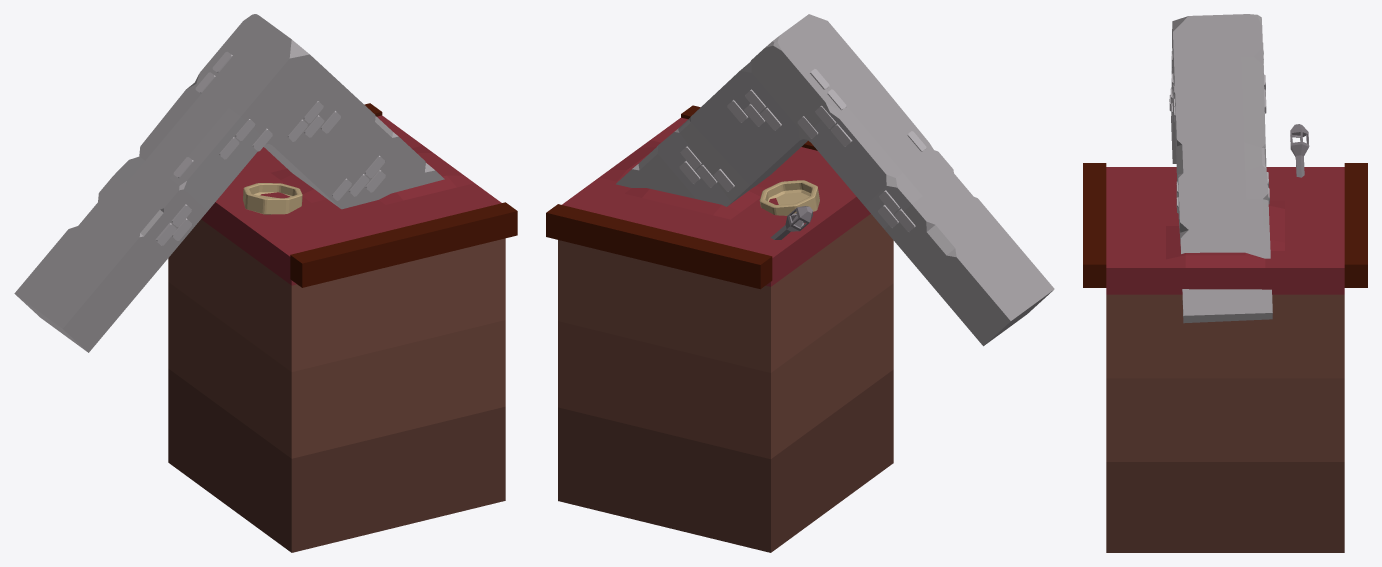
The model's file is Plano5.fbx.
3 renders of one model, left to right at view 1: azimuth 30°, elevation 25°; view 2: azimuth 150°, elevation 25°; view 3: azimuth 270°, elevation 25°, orthographic. The views are drawn at different scales.
Parts seen in each view (by area): view 1: chao, Cube.052, Plane.037, Borda, Tijolo, Cylinder.002; view 2: chao, Cube.052, Plane.037, Borda, Tijolo, Cylinder.002, Lampada.001; view 3: chao, Cube.052, Plane.037, Borda, Lampada.001, Tijolo.
Boxes of the visible parts, box(x1,y1,x2,y2) form: chao: box(168, 219, 505, 552); Cube.052: box(14, 14, 444, 352); Plane.037: box(201, 115, 501, 285); Borda: box(290, 103, 517, 287); Tijolo: box(155, 51, 385, 245); Cylinder.002: box(243, 183, 302, 214); chao: box(558, 214, 893, 552); Cube.052: box(616, 14, 1054, 346); Plane.037: box(562, 117, 870, 286); Borda: box(546, 105, 817, 289); Tijolo: box(679, 69, 926, 231); Cylinder.002: box(759, 180, 819, 215); Lampada.001: box(770, 206, 812, 239); chao: box(1106, 294, 1344, 552); Cube.052: box(1171, 14, 1272, 323); Plane.037: box(1106, 167, 1344, 294); Borda: box(1083, 163, 1367, 287); Lampada.001: box(1290, 124, 1309, 177); Tijolo: box(1169, 43, 1269, 213).
Size of the model in its own units: 1602 by 1692 by 955.
